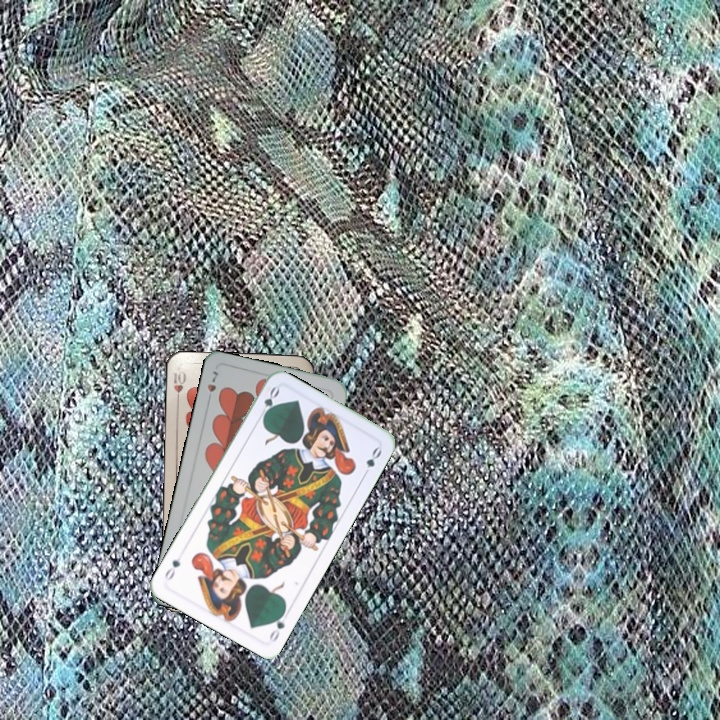GO: (255, 383, 282, 422), (265, 606, 289, 644)
H10: (169, 367, 189, 407)
H7: (203, 366, 221, 394)
